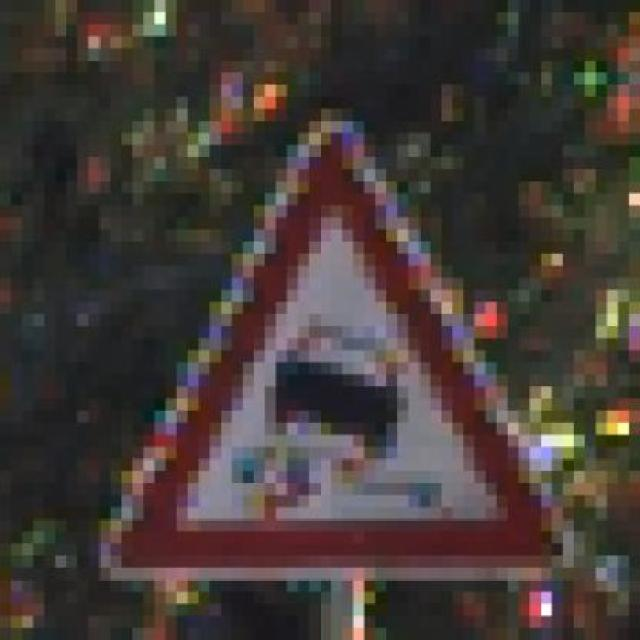Slippery Road Ahead: (88, 108, 574, 580)
